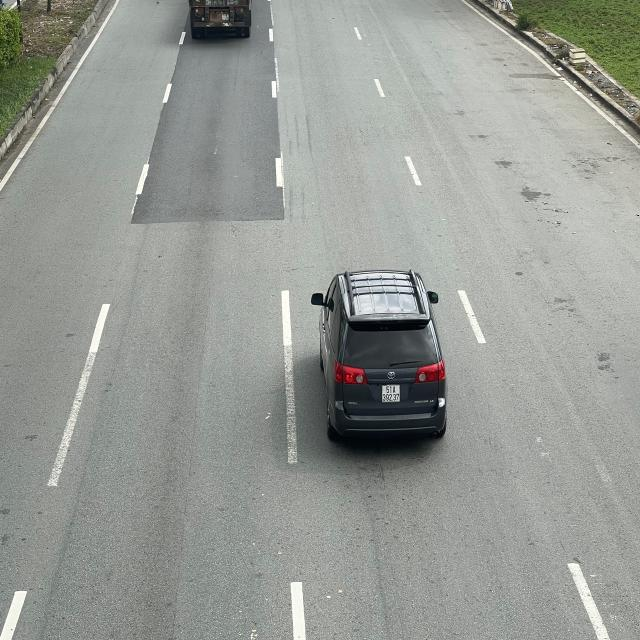car: (308, 270, 447, 443)
